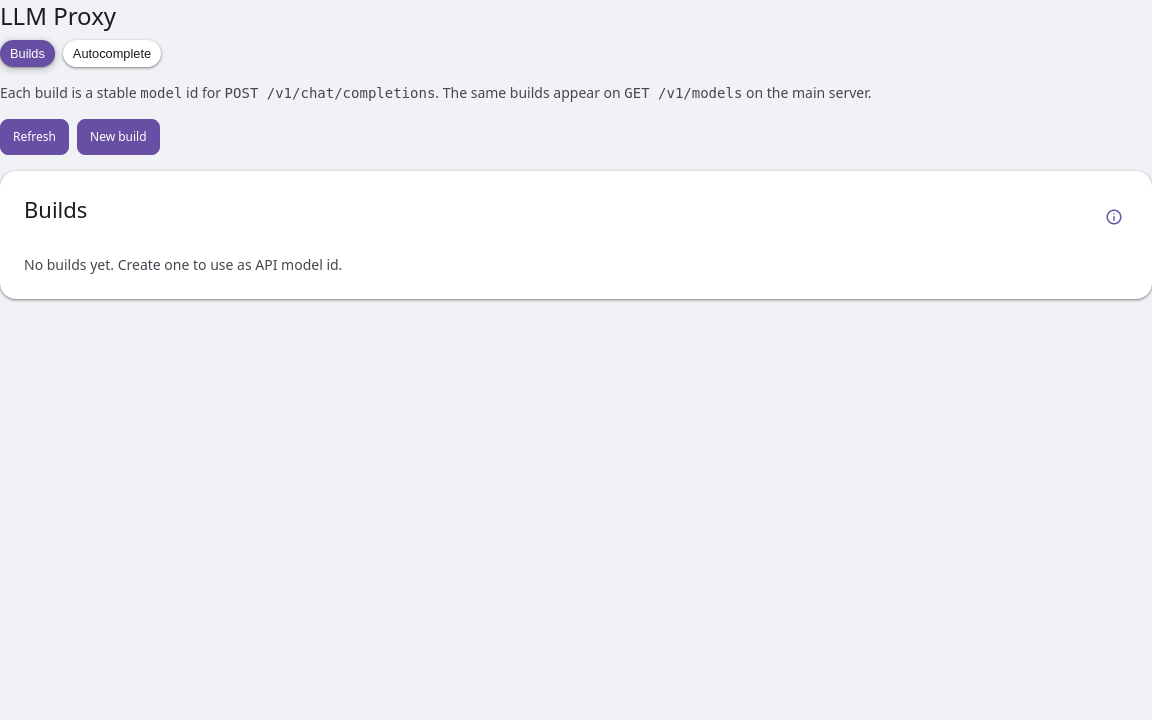
LlmProxyBuildsTab smoke › navigates wizard to parameters step and renders prefab buttons
Click the button "New build": [118, 137] box x1=77 y1=119 x2=160 y2=155
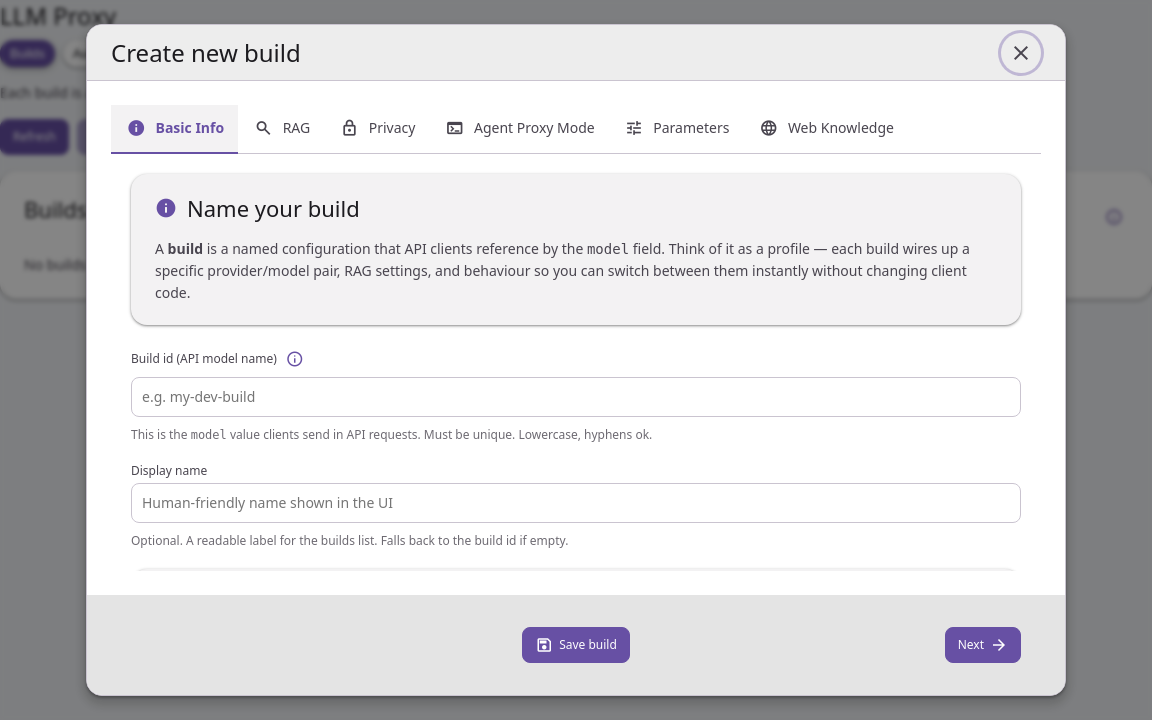
Expected: the heading "Create new build" is shown, x1=111 y1=36 x2=301 y2=68
Click the tab with aria-label "step 5: parameters": [676, 129] box x1=609 y1=105 x2=743 y2=154
(page scrolled)
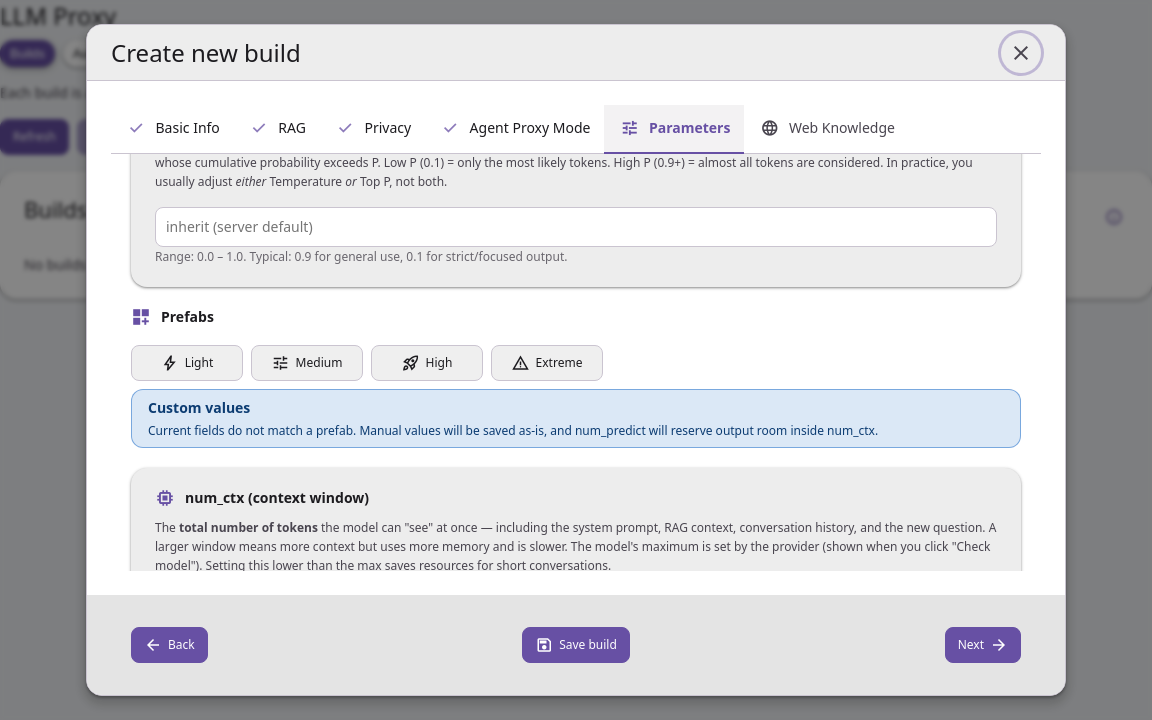
Expected: the button "Light" is shown, x1=131 y1=345 x2=243 y2=381
Expected: the button "Medium" is shown, x1=251 y1=345 x2=363 y2=381
